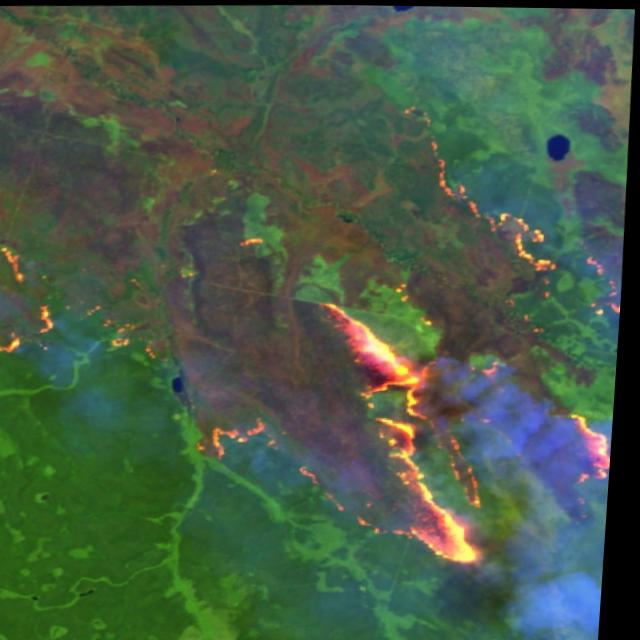fire: (175, 104, 635, 580), (0, 230, 81, 361)
